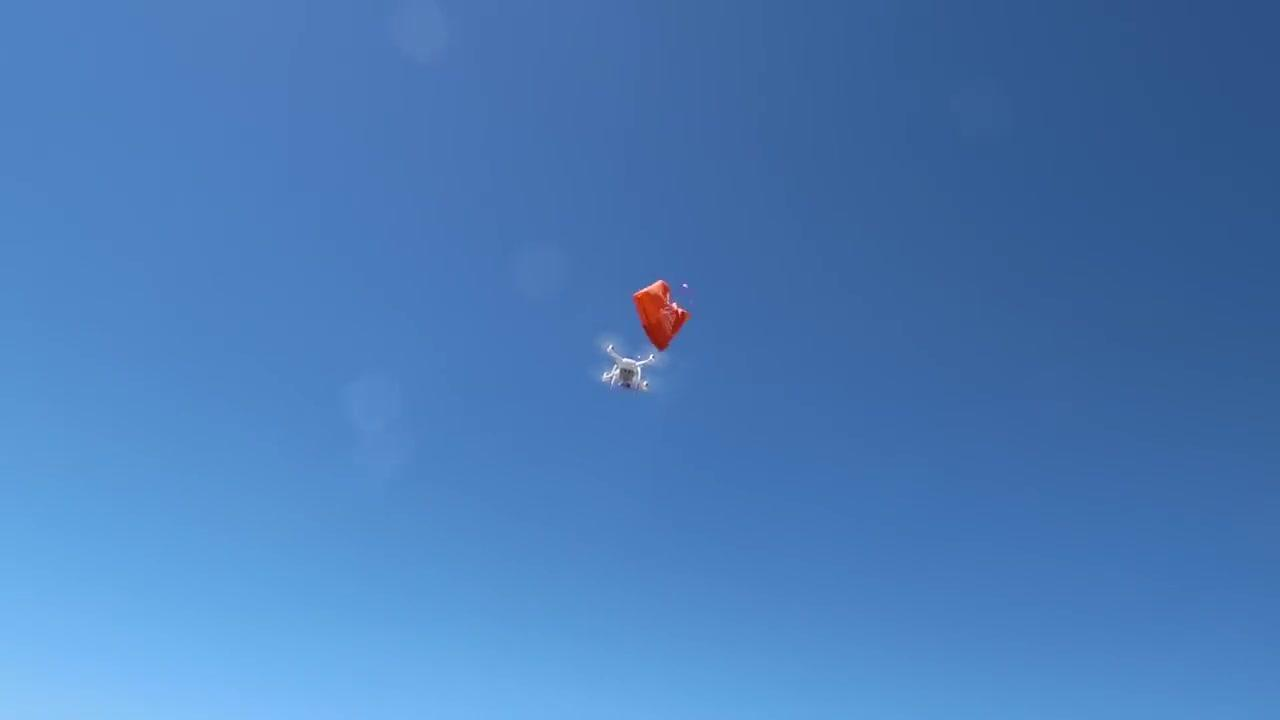UAV: (602, 345, 657, 391)
